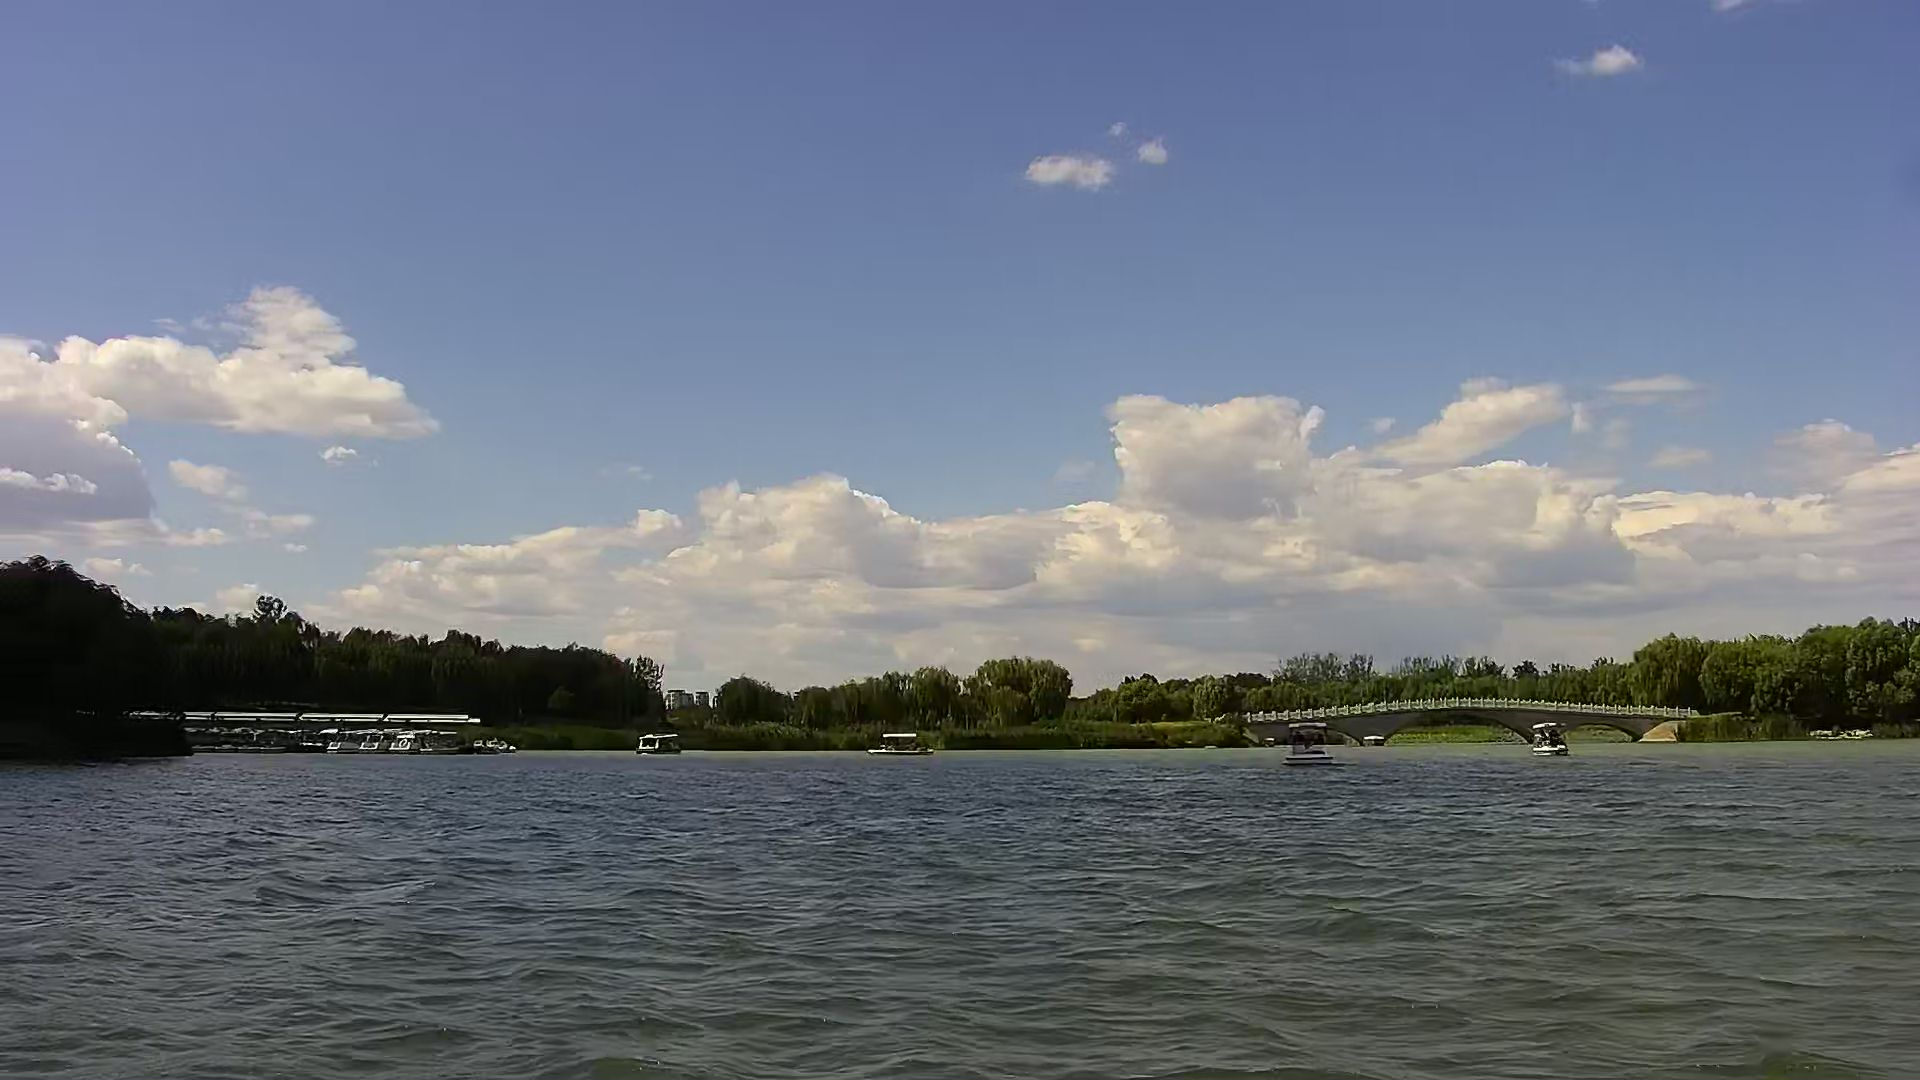boat: (1275, 713, 1338, 766), (865, 720, 938, 764), (392, 723, 471, 756), (1524, 713, 1575, 762), (637, 723, 680, 760), (320, 724, 373, 754), (357, 720, 397, 754)
bridge: (1226, 692, 1695, 742)
